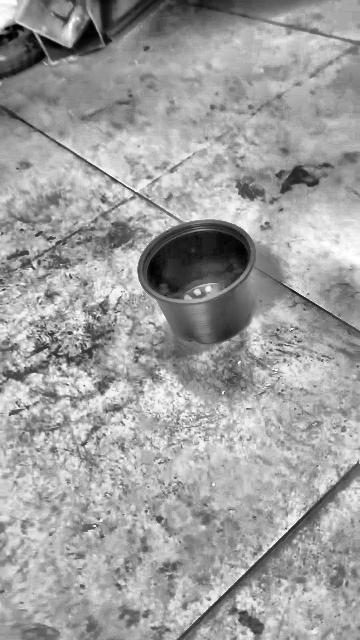pot: (137, 220, 256, 345)
